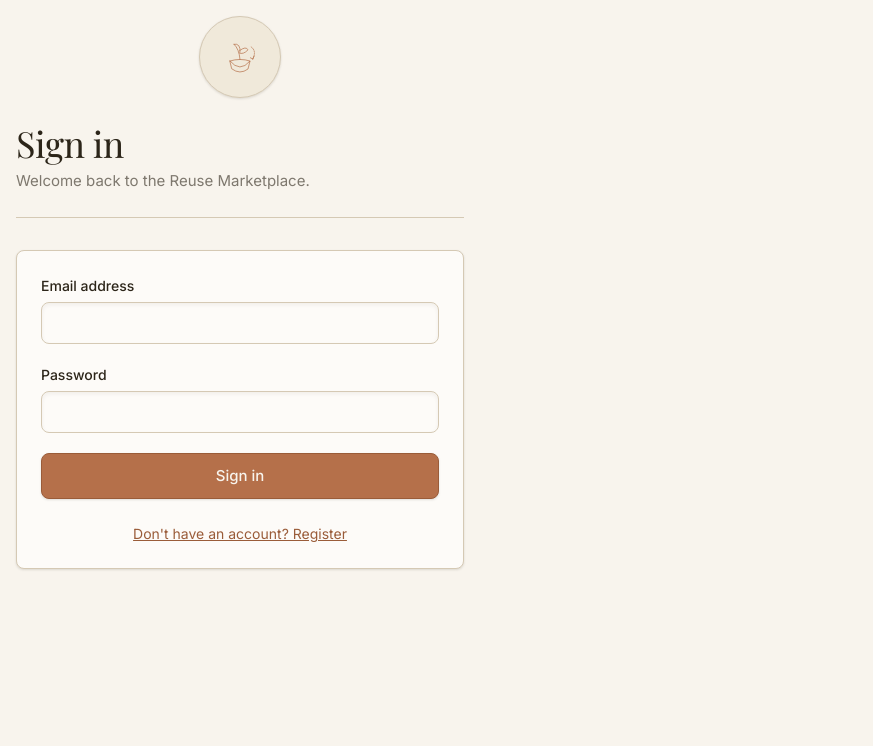
LoginPage › shows invalid credentials error on 401
Type "alice@example.com" into the field labelled "Email address".
click(240, 323); type("alice@example.com")  # box [41,302,439,344]
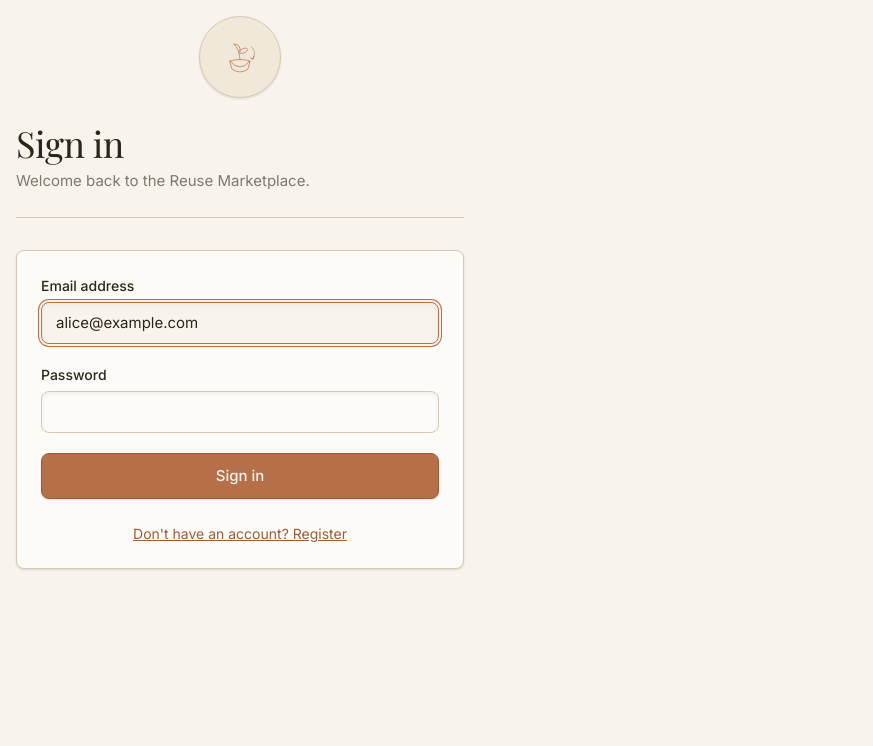
Type "WrongPass1" into the password field labelled "Password".
click(240, 412); type("WrongPass1")  # box [41,391,439,433]
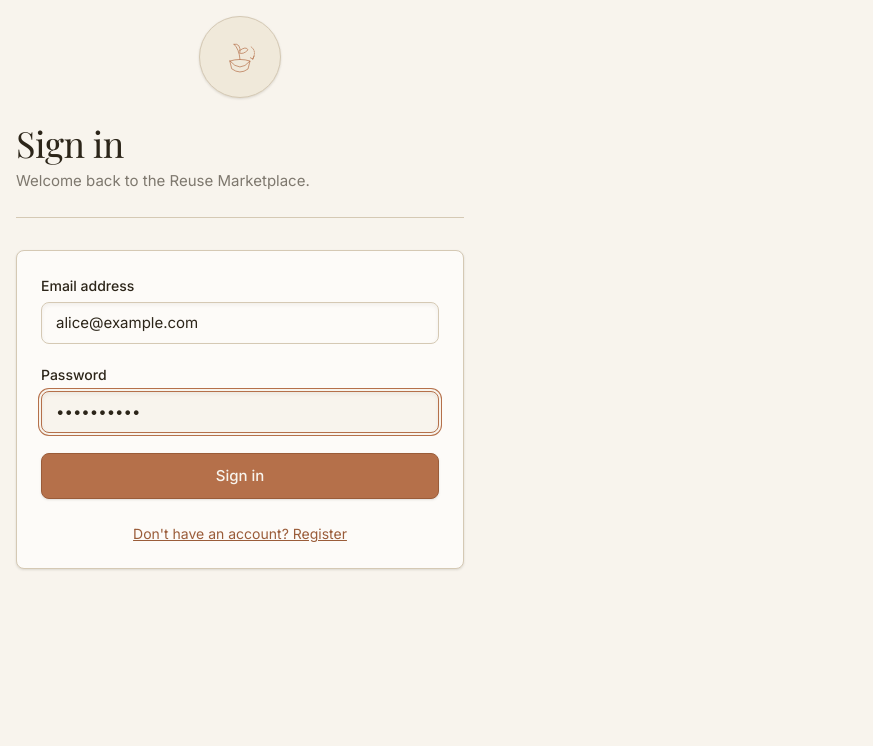
Click the button "Sign in".
click(240, 476)  # box [41,453,439,499]
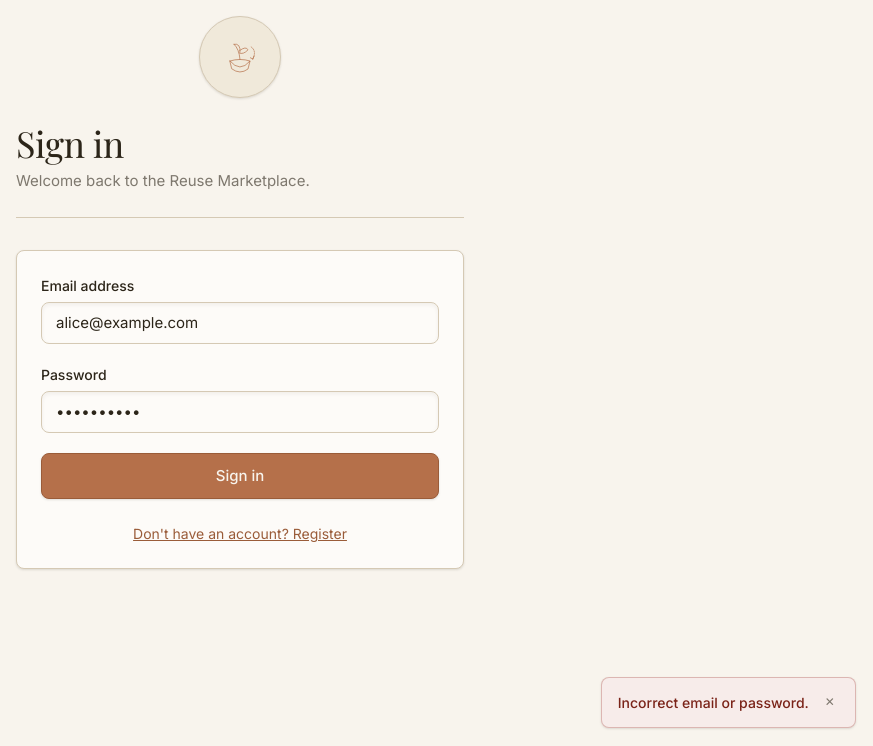
Expected: the text "Incorrect email or password." is shown, [618,692,809,713]
